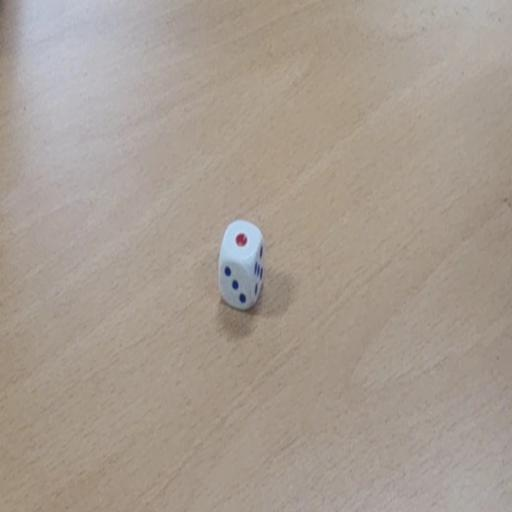dice_1: (217, 218, 267, 315)
